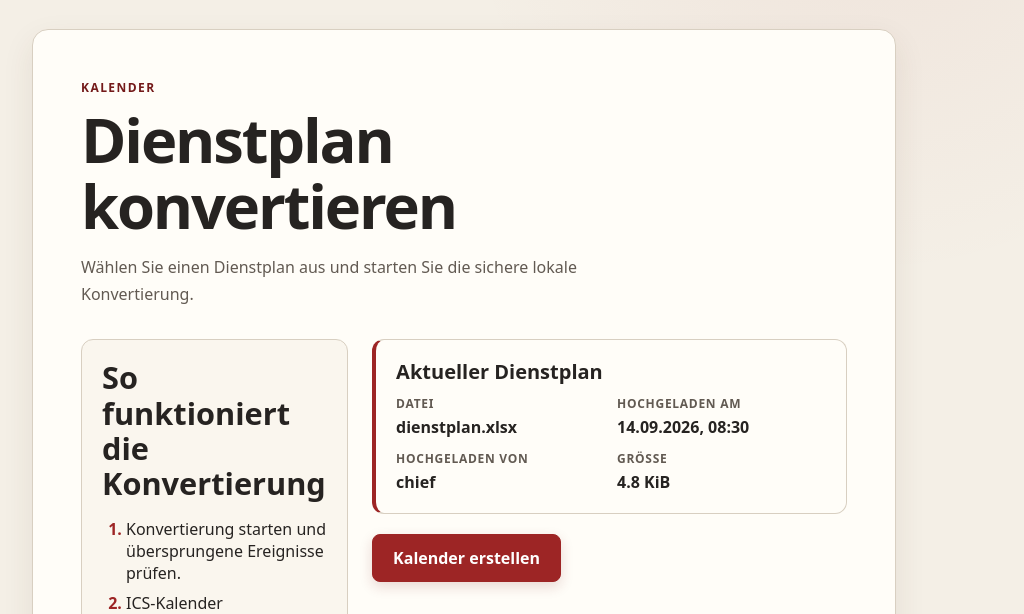
Test case: calendar converter page › per-person calendars › translates a missing personnel number reported by the server
Expected: the text "dienstplan.xlsx" is shown, [396,416,517,438]
Click the button "Kalender erstellen": coordinates (467, 558) [372,534,561,582]
(page scrolled)
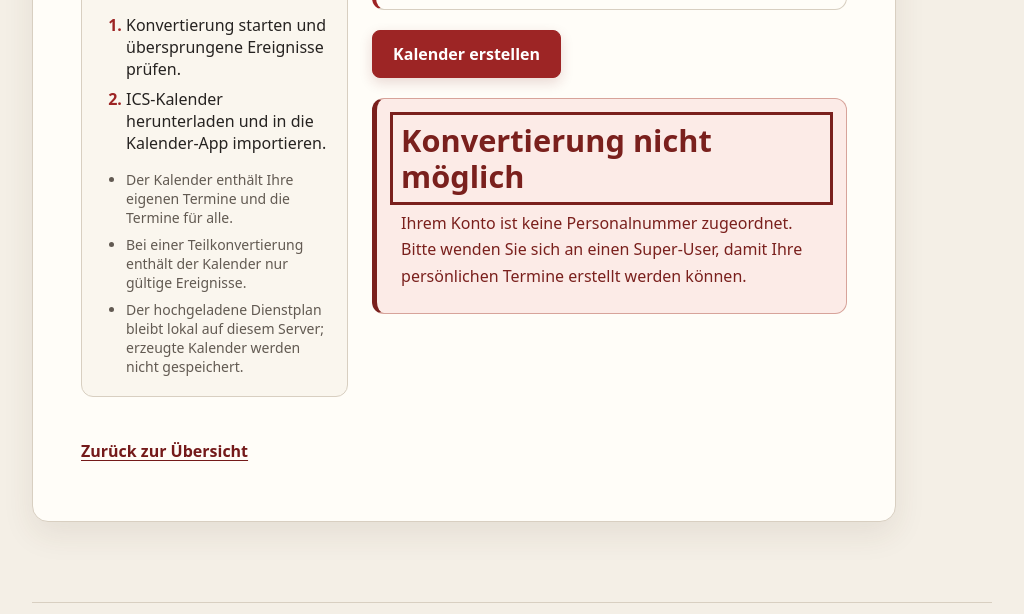
Expected: the text "Bitte wenden Sie sich an einen Super-User, damit Ihre persönlichen Termine" is shown, [401,212,802,287]
